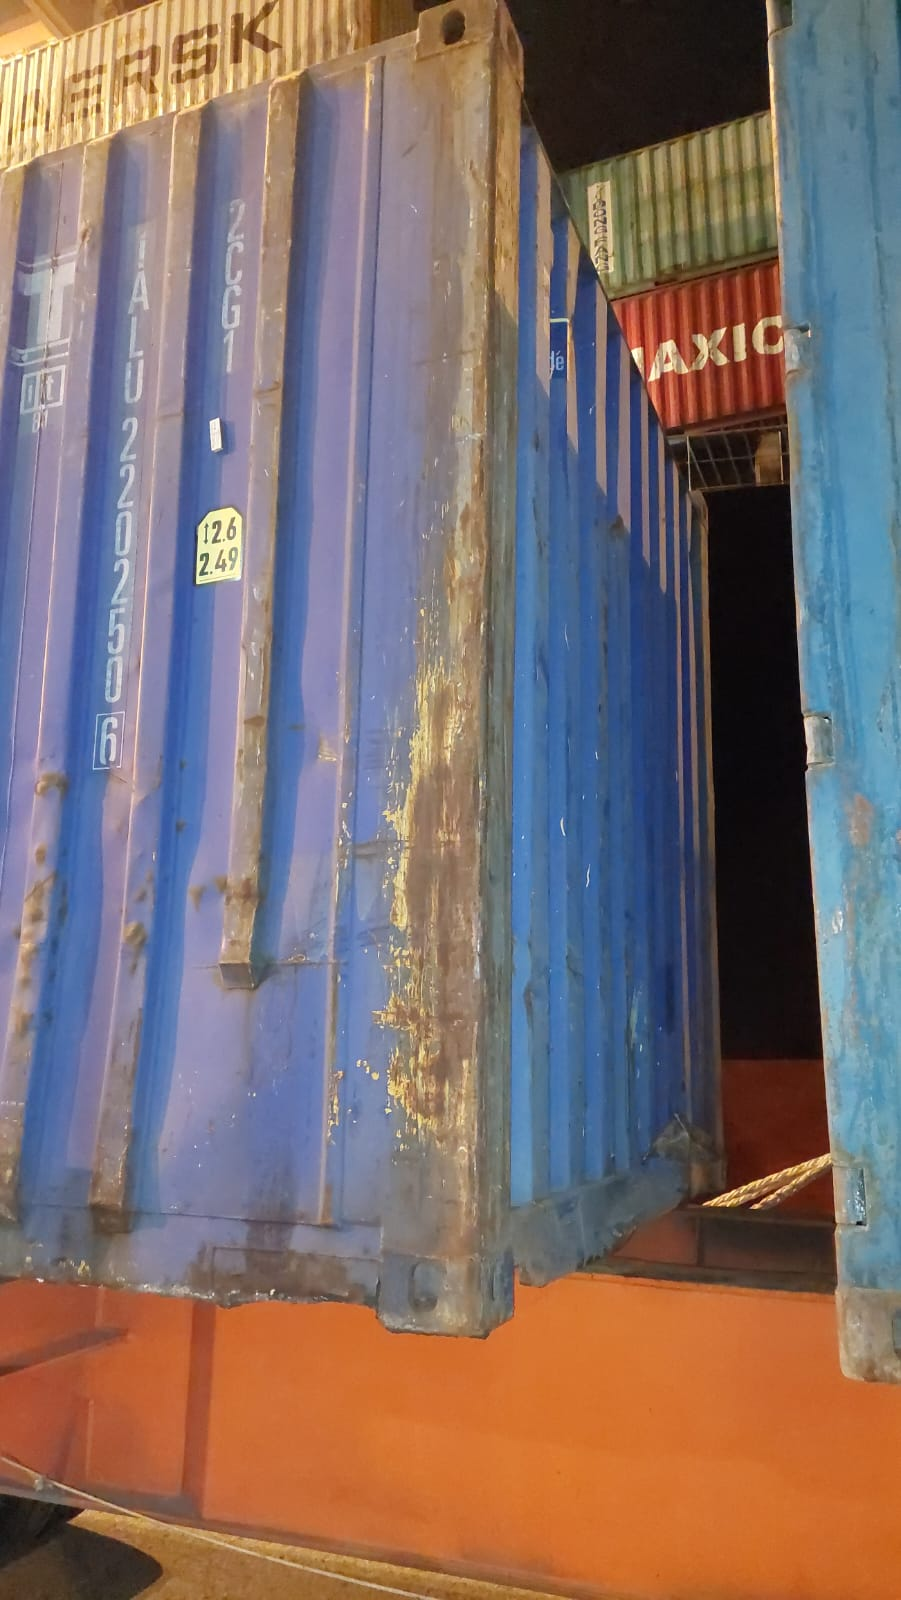bulged: (178, 715, 342, 1123)
rust: (398, 304, 493, 1189)
